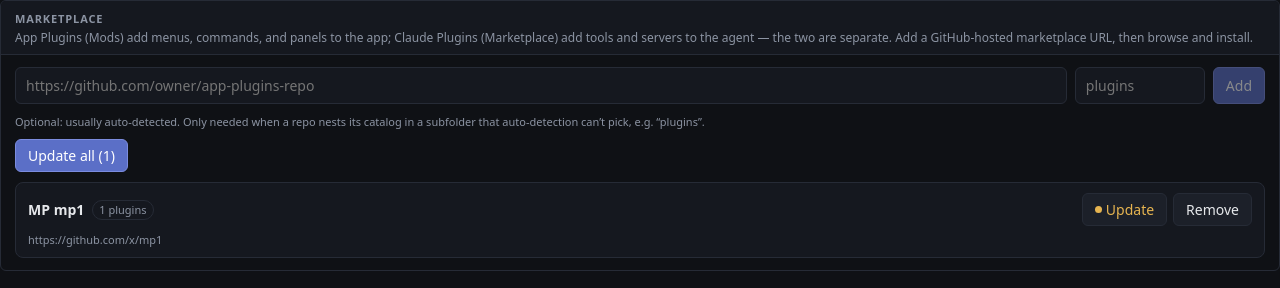
Test case: AppPluginMarketplaceSection Update all › shows an up-to-date note when no installed plugin has a newer catalog version
The width and height of the screenshot is (1280, 288).
Click the button "Update all (1)" at (72,156), box [15,139,128,172]
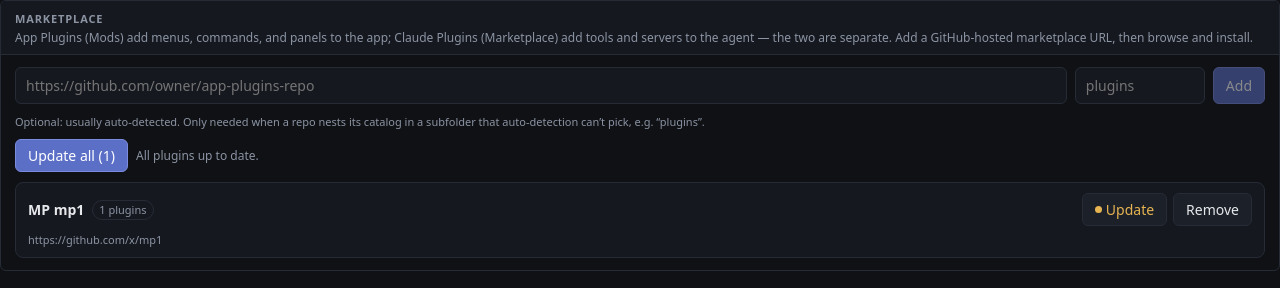
Expected: the text "All plugins up to date." is shown, [136,147,259,164]
